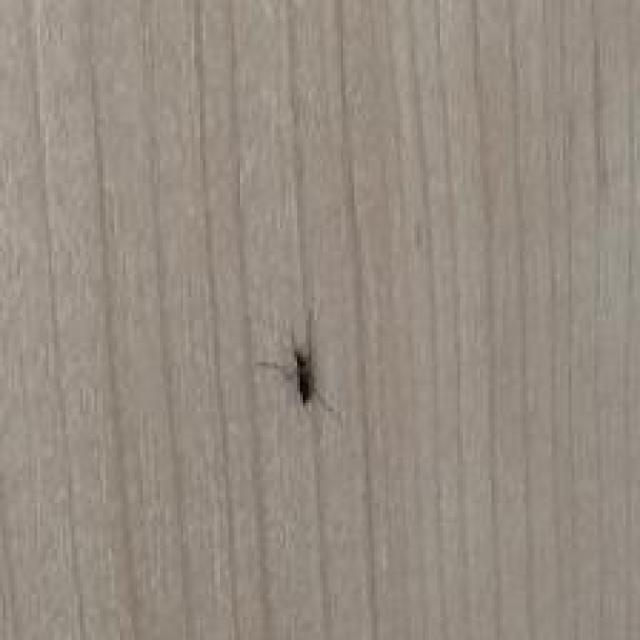Aedes albopictus: (256, 346, 336, 414)
